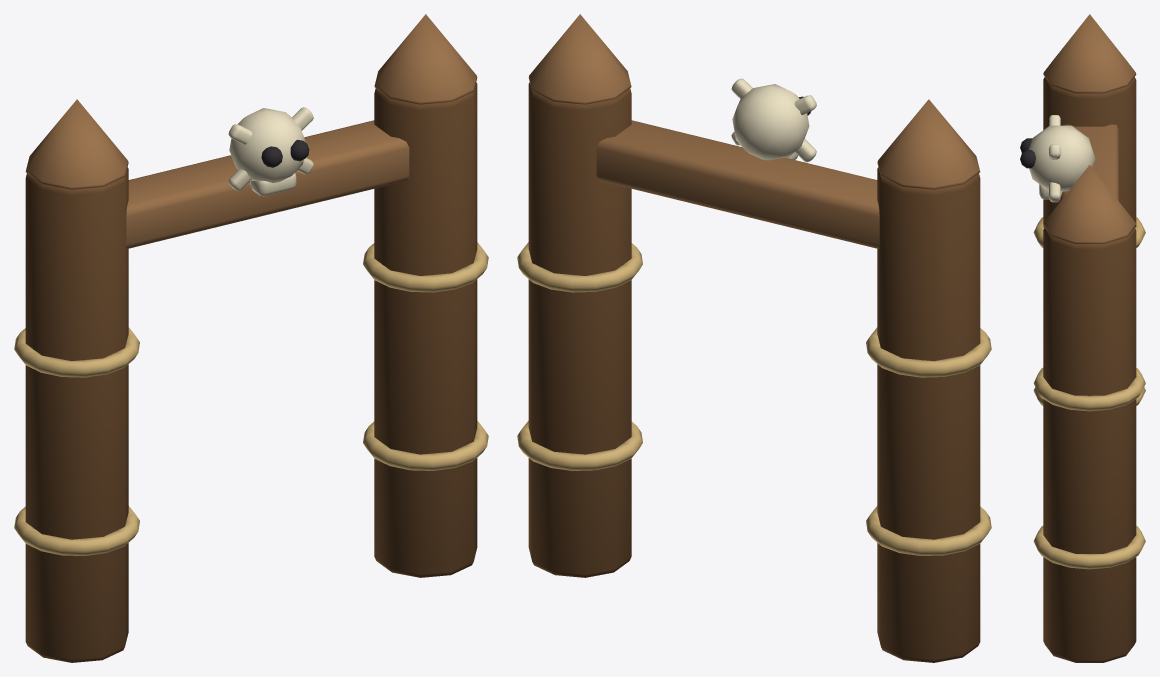
Rendered from WallGate.glb.
The picture shows the model from 3 angles, left to right: view 1: azimuth 30°, elevation 25°; view 2: azimuth 150°, elevation 25°; view 3: azimuth 270°, elevation 25°; orthographic projection. The views are drawn at different scales.
Visible parts, largest first — view 1: WallGate; view 2: WallGate; view 3: WallGate.
Boxes of the visible parts, box(x1,y1,x2,y2) form: WallGate: box(14, 14, 488, 662); WallGate: box(517, 14, 991, 662); WallGate: box(1020, 14, 1145, 662).
Bounding box in the file's own units: 2.42 × 2.74 × 0.65.
